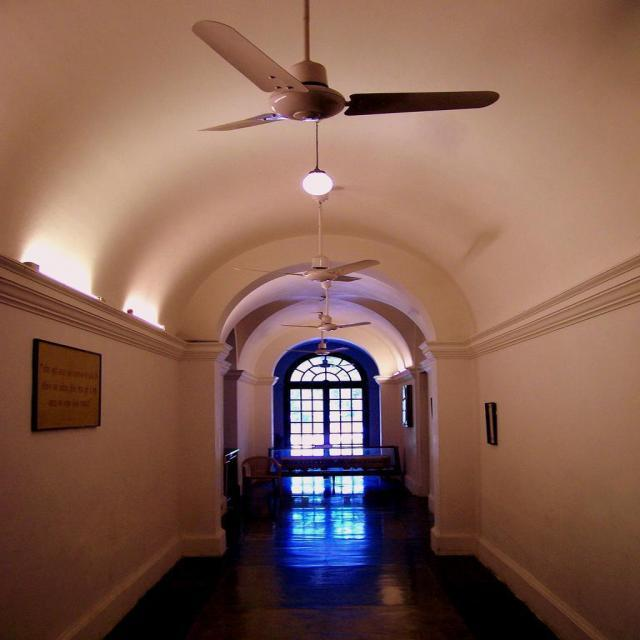bulb_on: (305, 170, 333, 198)
fan_off: (179, 0, 499, 129), (242, 197, 362, 295), (282, 293, 372, 339), (298, 317, 347, 360), (304, 341, 340, 370)
